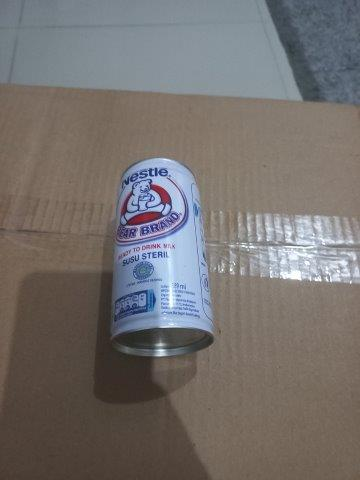kaleng: (112, 158, 217, 357)
kardus: (1, 84, 360, 480)
